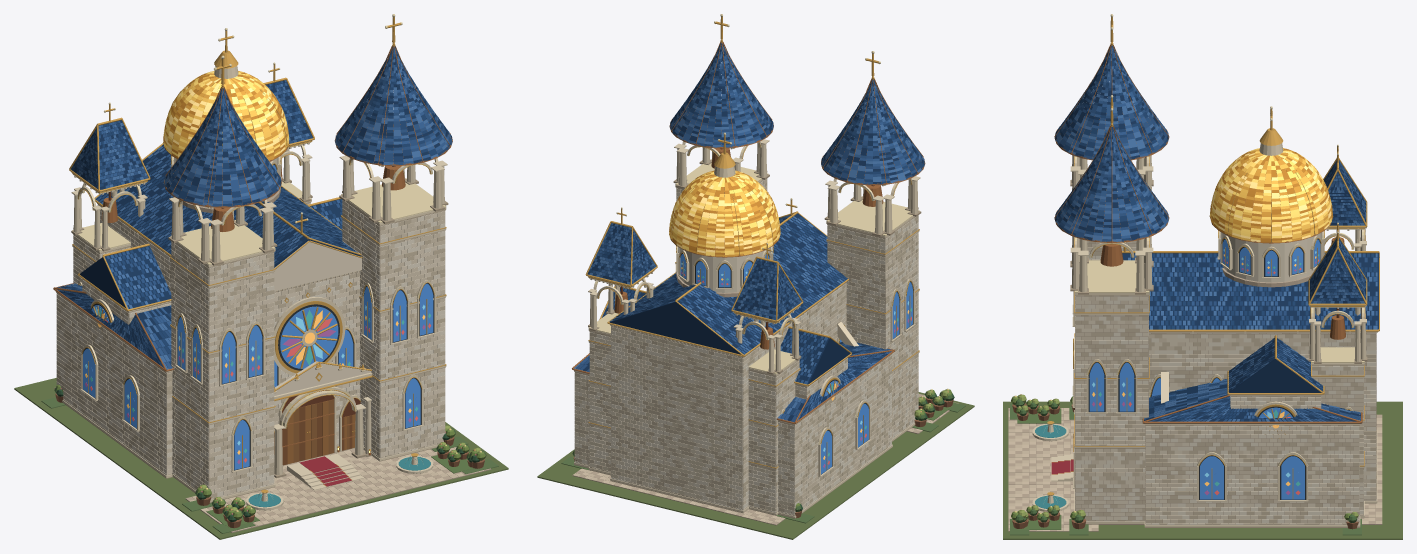
The model's file is church-nivel-10.glb.
3 views of the same model, side by side, from view 1: azimuth 30°, elevation 25°; view 2: azimuth 150°, elevation 25°; view 3: azimuth 270°, elevation 25° (orthographic). The views are drawn at different scales.
Parts seen in each view (by area): view 1: Igreja 10 #e8dcc5, Igreja 10 #e6d7ba, Igreja 10 #ded1b9, Igreja 10 #1b385b, Igreja 10 #cec1a8, Igreja 10 #eae1ce, Igreja 10 #d5a452, Igreja 10 #406c9f, Igreja 10 #4670a0, Igreja 10 #234771, Igreja 10 #2e5481, Igreja 10 #355f90 (+22 smaller); view 2: Igreja 10 #e8dcc5, Igreja 10 #1b385b, Igreja 10 #eae1ce, Igreja 10 #ded1b9, Igreja 10 #cec1a8, Igreja 10 #e6d7ba, Igreja 10 #4670a0, Igreja 10 #2e5481, Igreja 10 #234771, Igreja 10 #6c7d4e, Igreja 10 #355f90, Igreja 10 #d5a452 (+14 smaller); view 3: Igreja 10 #1b385b, Igreja 10 #e8dcc5, Igreja 10 #cec1a8, Igreja 10 #ded1b9, Igreja 10 #eae1ce, Igreja 10 #e6d7ba, Igreja 10 #4670a0, Igreja 10 #234771, Igreja 10 #6c7d4e, Igreja 10 #2e5481, Igreja 10 #b3a390, Igreja 10 #355f90 (+20 smaller).
Boxes of the visible parts, left/top/right/bottom form: Igreja 10 #e8dcc5: left=56, top=157, right=445, bottom=497; Igreja 10 #e6d7ba: left=55, top=66, right=447, bottom=510; Igreja 10 #ded1b9: left=56, top=142, right=445, bottom=499; Igreja 10 #1b385b: left=58, top=46, right=452, bottom=368; Igreja 10 #cec1a8: left=56, top=210, right=445, bottom=498; Igreja 10 #eae1ce: left=56, top=200, right=445, bottom=496; Igreja 10 #d5a452: left=69, top=17, right=446, bottom=493; Igreja 10 #406c9f: left=83, top=165, right=433, bottom=469; Igreja 10 #4670a0: left=57, top=49, right=450, bottom=369; Igreja 10 #234771: left=69, top=47, right=451, bottom=367; Igreja 10 #2e5481: left=57, top=48, right=452, bottom=360; Igreja 10 #355f90: left=64, top=47, right=449, bottom=368; Igreja 10 #e8dcc5: left=574, top=181, right=918, bottom=515; Igreja 10 #1b385b: left=576, top=45, right=923, bottom=421; Igreja 10 #eae1ce: left=574, top=180, right=918, bottom=514; Igreja 10 #ded1b9: left=574, top=148, right=918, bottom=512; Igreja 10 #cec1a8: left=574, top=182, right=918, bottom=514; Igreja 10 #e6d7ba: left=574, top=139, right=920, bottom=518; Igreja 10 #4670a0: left=574, top=47, right=923, bottom=420; Igreja 10 #2e5481: left=576, top=43, right=921, bottom=422; Igreja 10 #234771: left=588, top=43, right=924, bottom=414; Igreja 10 #6c7d4e: left=537, top=392, right=974, bottom=539; Igreja 10 #355f90: left=580, top=43, right=924, bottom=420; Igreja 10 #d5a452: left=585, top=17, right=919, bottom=470; Igreja 10 #1b385b: left=1054, top=50, right=1378, bottom=421; Igreja 10 #e8dcc5: left=1075, top=232, right=1376, bottom=524; Igreja 10 #cec1a8: left=1075, top=241, right=1376, bottom=524; Igreja 10 #ded1b9: left=1073, top=156, right=1377, bottom=524; Igreja 10 #eae1ce: left=1075, top=242, right=1376, bottom=524; Igreja 10 #e6d7ba: left=1032, top=143, right=1377, bottom=527; Igreja 10 #4670a0: left=1056, top=46, right=1377, bottom=421; Igreja 10 #234771: left=1056, top=46, right=1377, bottom=421; Igreja 10 #6c7d4e: left=1003, top=401, right=1402, bottom=539; Igreja 10 #2e5481: left=1059, top=47, right=1377, bottom=421; Igreja 10 #b3a390: left=1075, top=242, right=1376, bottom=524; Igreja 10 #355f90: left=1056, top=45, right=1377, bottom=421.
Bounding box in the file's own units: 25.75 × 36.52 × 31.77.
